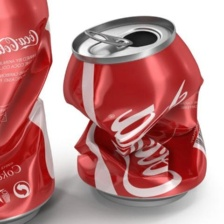can: (59, 13, 212, 212), (0, 0, 59, 224)
